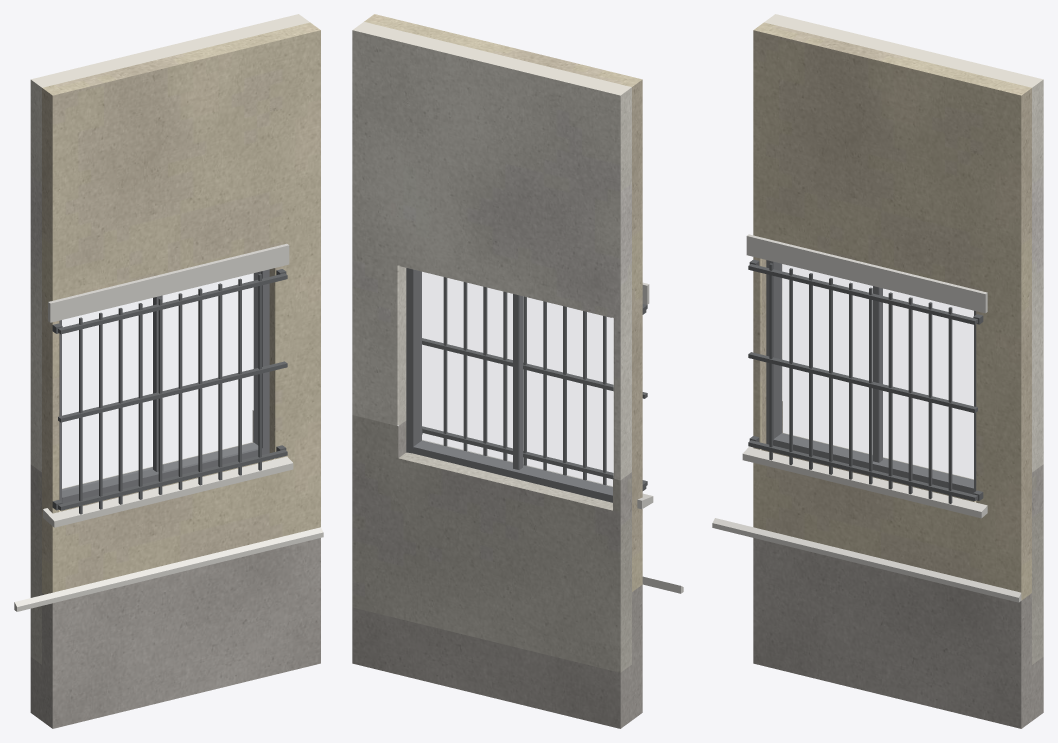
File: o_win_l_ea.glb
3 views of the same model, side by side, from view 1: azimuth 30°, elevation 25°; view 2: azimuth 150°, elevation 25°; view 3: azimuth 330°, elevation 25° (orthographic).
Parts seen in each view (by area): view 1: o_win_l_ea_render, o_win_l_ea_concrete, o_win_l_ea_iron, o_win_l_ea_coping, folha_2_glass, folha_glass, o_win_l_ea_plaster, o_win_l_ea_frame, o_win_l_ea_tile_a, folha_2_frame; view 2: o_win_l_ea_plaster, o_win_l_ea_tile_a, o_win_l_ea_concrete, folha_glass, folha_2_glass, o_win_l_ea_iron, o_win_l_ea_render, o_win_l_ea_frame, folha_frame, o_win_l_ea_coping; view 3: o_win_l_ea_render, o_win_l_ea_concrete, o_win_l_ea_iron, o_win_l_ea_coping, folha_2_glass, folha_glass, o_win_l_ea_plaster, o_win_l_ea_frame, o_win_l_ea_tile_a, folha_2_frame.
Boxes of the visible parts, x1=… form: o_win_l_ea_render: x1=42, y1=22, x2=320, y2=594; o_win_l_ea_concrete: x1=30, y1=538, x2=320, y2=728; o_win_l_ea_iron: x1=52, y1=269, x2=287, y2=514; o_win_l_ea_coping: x1=14, y1=243, x2=323, y2=611; folha_2_glass: x1=164, y1=272, x2=260, y2=470; folha_glass: x1=62, y1=299, x2=151, y2=490; o_win_l_ea_plaster: x1=30, y1=14, x2=309, y2=472; o_win_l_ea_frame: x1=59, y1=271, x2=262, y2=503; o_win_l_ea_tile_a: x1=30, y1=410, x2=253, y2=664; folha_2_frame: x1=156, y1=269, x2=269, y2=471; o_win_l_ea_plaster: x1=352, y1=22, x2=631, y2=480; o_win_l_ea_tile_a: x1=352, y1=415, x2=631, y2=672; o_win_l_ea_concrete: x1=352, y1=585, x2=642, y2=728; folha_glass: x1=518, y1=296, x2=612, y2=493; folha_2_glass: x1=420, y1=272, x2=512, y2=463; o_win_l_ea_iron: x1=422, y1=277, x2=647, y2=490; o_win_l_ea_render: x1=364, y1=14, x2=642, y2=591; o_win_l_ea_frame: x1=406, y1=268, x2=612, y2=502; folha_frame: x1=513, y1=294, x2=519, y2=469; o_win_l_ea_coping: x1=422, y1=282, x2=683, y2=593; o_win_l_ea_render: x1=753, y1=22, x2=1031, y2=600; o_win_l_ea_concrete: x1=753, y1=538, x2=1043, y2=728; o_win_l_ea_iron: x1=748, y1=259, x2=983, y2=503; o_win_l_ea_coping: x1=712, y1=234, x2=1021, y2=602; folha_2_glass: x1=879, y1=288, x2=973, y2=485; folha_glass: x1=780, y1=264, x2=872, y2=455; o_win_l_ea_plaster: x1=764, y1=14, x2=1043, y2=472; o_win_l_ea_frame: x1=766, y1=260, x2=973, y2=494; o_win_l_ea_tile_a: x1=782, y1=401, x2=1043, y2=664; folha_2_frame: x1=873, y1=286, x2=976, y2=492.
Bounding box in the file's own units: 2 × 3.95 × 0.324.
8 materials, 4 textured.
